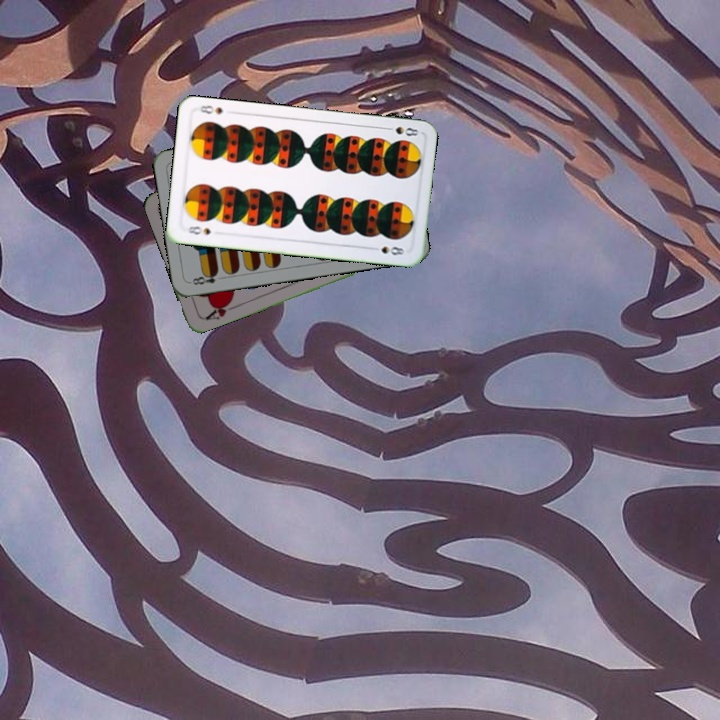E8: (186, 268, 221, 287)
HA: (200, 296, 239, 323)
S8: (381, 123, 421, 139), (181, 222, 213, 238)
